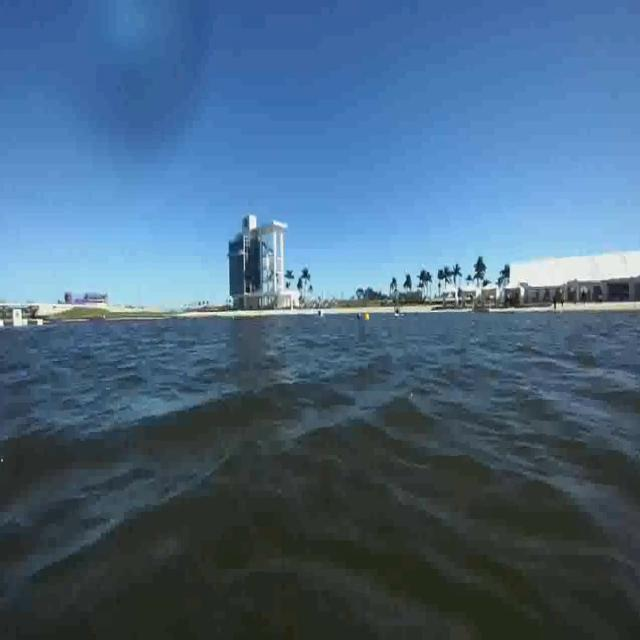yellow-buoy: (363, 311, 370, 323)
